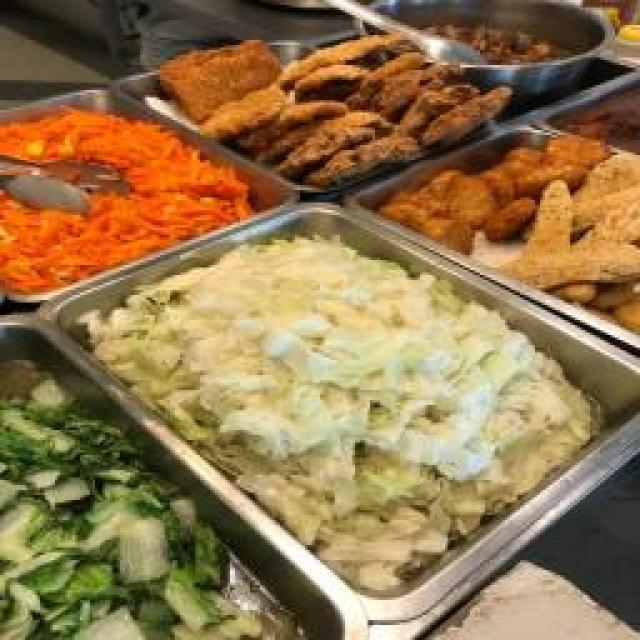Wet Waste: (190, 260, 535, 502), (0, 125, 205, 265), (400, 155, 548, 243)
